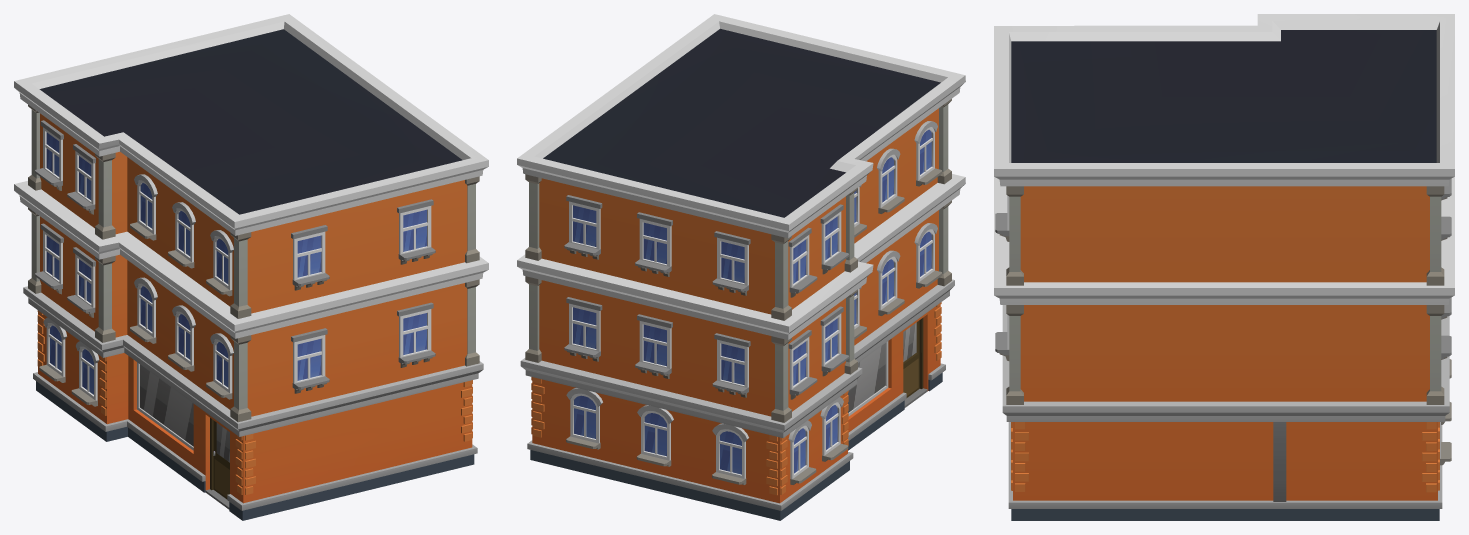
Rendered from Building_1_3_F.fbx.
3 renders of one model, left to right at view 1: azimuth 30°, elevation 25°; view 2: azimuth 150°, elevation 25°; view 3: azimuth 270°, elevation 25°, orthographic. The views are drawn at different scales.
Visible parts, largest first — view 1: Building_1_3_F; view 2: Building_1_3_F; view 3: Building_1_3_F.
Boxes of the visible parts, bbox=[...] form: Building_1_3_F: bbox=[14, 14, 488, 520]; Building_1_3_F: bbox=[517, 14, 965, 520]; Building_1_3_F: bbox=[994, 14, 1454, 520].
Size of the model in its own units: 841 by 900 by 1057.
